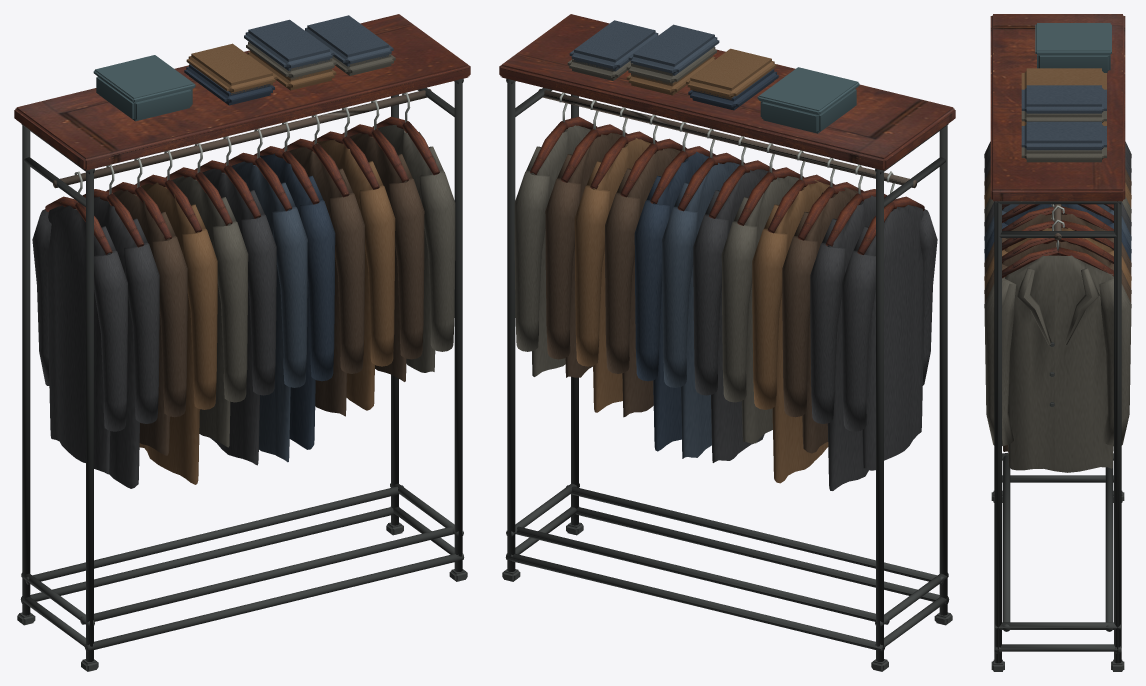
Rendered from coat-rail.glb.
3 renders of one model, left to right at view 1: azimuth 30°, elevation 25°; view 2: azimuth 150°, elevation 25°; view 3: azimuth 270°, elevation 25°, orthographic. The views are drawn at different scales.
Visible parts, largest first — view 1: Frame; view 2: Frame; view 3: Frame.
Boxes of the visible parts, box(x1,y1,x2,y2) form: Frame: box(14, 14, 470, 671); Frame: box(499, 14, 955, 671); Frame: box(984, 14, 1131, 671).
Size of the model in its own units: 1.65 by 2.23 by 0.5787.
11 materials, 8 textured.
